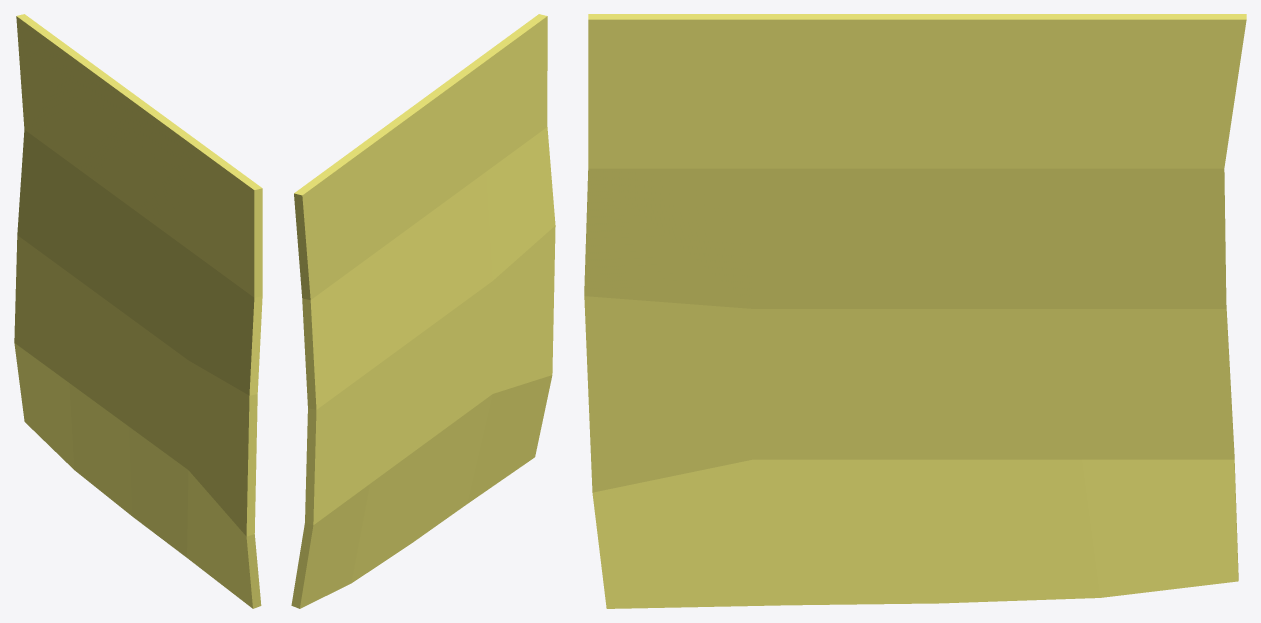
File: Memo.fbx
The picture shows the model from 3 angles, left to right: view 1: azimuth 30°, elevation 25°; view 2: azimuth 150°, elevation 25°; view 3: azimuth 270°, elevation 25°; orthographic projection. The views are drawn at different scales.
Visible parts, largest first — view 1: Memo; view 2: Memo; view 3: Memo.
Boxes of the visible parts, bbox=[...] form: Memo: bbox=[14, 14, 262, 608]; Memo: bbox=[291, 14, 555, 608]; Memo: bbox=[584, 14, 1246, 608].
Size of the model in its own units: 23.16 by 473 by 483.
